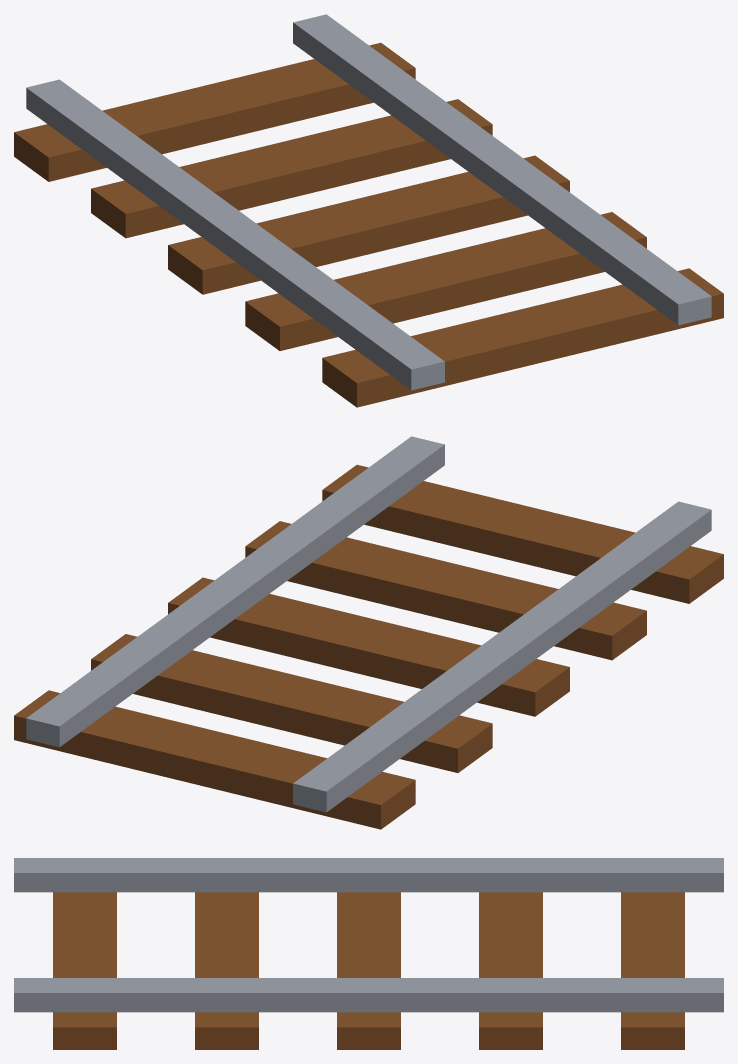
File: rail_straight.glb
3 views of the same model, one above another, from view 1: azimuth 30°, elevation 25°; view 2: azimuth 150°, elevation 25°; view 3: azimuth 270°, elevation 25° (orthographic). The views are drawn at different scales.
Visible parts, largest first — view 1: rail_straight; view 2: rail_straight; view 3: rail_straight.
Part boxes in pixels (box(x1,y1,x2,y2)): rail_straight: box(14, 14, 723, 407); rail_straight: box(14, 436, 723, 829); rail_straight: box(14, 858, 723, 1049).
Bounding box in the file's own units: 1.1 × 0.13 × 2.
